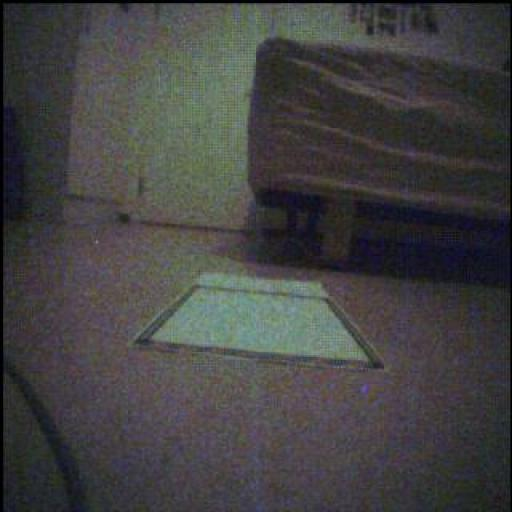pad: (134, 275, 383, 369)
